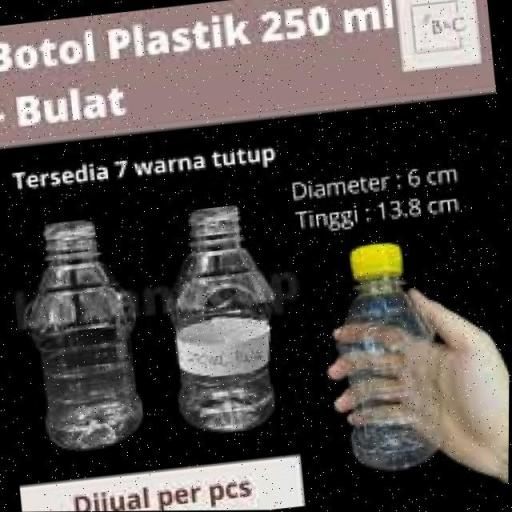plastic: (14, 214, 154, 459), (155, 200, 292, 440), (326, 235, 455, 480)
